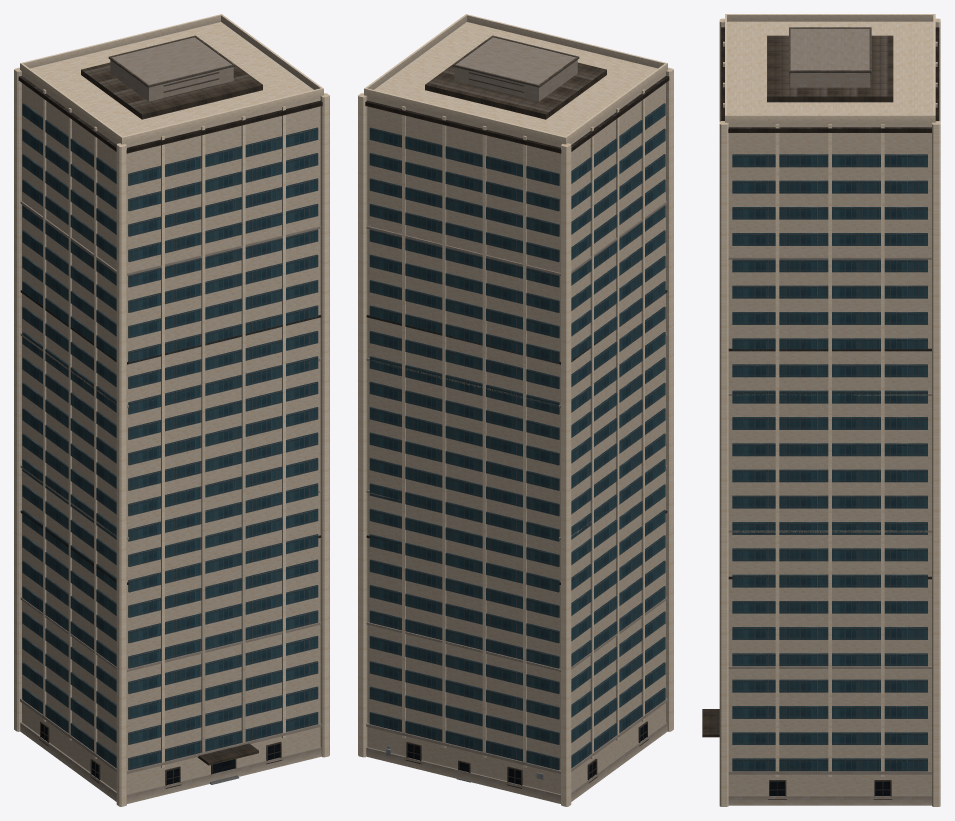
The model's file is campus-court-tower_lod0.gltf.
The picture shows the model from 3 angles, left to right: view 1: azimuth 30°, elevation 25°; view 2: azimuth 150°, elevation 25°; view 3: azimuth 270°, elevation 25°; orthographic projection. The views are drawn at different scales.
Visible parts, largest first — view 1: campus-court-tower_main, campus-court-tower_fen_07-glass-curtain-blue_0, campus-court-tower__v4_stone_detail, campus-court-tower__crown_step_1, campus-court-tower__cornice, campus-court-tower__parapet_front, campus-court-tower__parapet_back, campus-court-tower__v4_metal_detail, campus-court-tower__parapet_left, campus-court-tower__parapet_right, campus-court-tower_fen_07-glass-curtain-blue_2_t, campus-court-tower__string_course_2 (+2 smaller); view 2: campus-court-tower_main, campus-court-tower_fen_07-glass-curtain-blue_0, campus-court-tower__v4_stone_detail, campus-court-tower__crown_step_1, campus-court-tower__cornice, campus-court-tower__parapet_back, campus-court-tower__parapet_front, campus-court-tower__v4_metal_detail, campus-court-tower__parapet_left, campus-court-tower__parapet_right, campus-court-tower_fen_07-glass-curtain-blue_2_t, campus-court-tower_fen_12-bronze-metal_1; view 3: campus-court-tower_main, campus-court-tower_fen_07-glass-curtain-blue_0, campus-court-tower__v4_stone_detail, campus-court-tower__crown_step_1, campus-court-tower__cornice, campus-court-tower__parapet_left, campus-court-tower__parapet_right, campus-court-tower__v4_metal_detail, campus-court-tower__string_course_2, campus-court-tower__marquee, campus-court-tower_fen_07-glass-curtain-blue_2_t.
Boxes of the visible parts, x1,y1,x2,y2 form: campus-court-tower_main: (22,22,320,794); campus-court-tower_fen_07-glass-curtain-blue_0: (22,103,318,770); campus-court-tower__v4_stone_detail: (14,37,329,806); campus-court-tower__crown_step_1: (81,40,262,119); campus-court-tower__cornice: (18,76,322,153); campus-court-tower__parapet_front: (121,88,323,144); campus-court-tower__parapet_back: (20,14,222,70); campus-court-tower__v4_metal_detail: (108,35,235,98); campus-court-tower__parapet_left: (21,63,122,143); campus-court-tower__parapet_right: (221,15,322,89); campus-court-tower_fen_07-glass-curtain-blue_2_t: (41,724,280,784); campus-court-tower__string_course_2: (20,290,321,364); campus-court-tower_main: (367,22,665,794); campus-court-tower_fen_07-glass-curtain-blue_0: (369,103,665,770); campus-court-tower__v4_stone_detail: (358,22,673,806); campus-court-tower__crown_step_1: (425,40,606,119); campus-court-tower__cornice: (365,76,669,153); campus-court-tower__parapet_back: (364,88,566,144); campus-court-tower__parapet_front: (465,14,667,70); campus-court-tower__v4_metal_detail: (452,35,579,98); campus-court-tower__parapet_left: (565,63,666,143); campus-court-tower__parapet_right: (365,15,466,89); campus-court-tower_fen_07-glass-curtain-blue_2_t: (407,724,646,784); campus-court-tower_fen_12-bronze-metal_1: (405,721,648,788); campus-court-tower_main: (727,21,933,795); campus-court-tower_fen_07-glass-curtain-blue_0: (732,154,927,771); campus-court-tower__v4_stone_detail: (719,18,940,806); campus-court-tower__crown_step_1: (767,35,893,102); campus-court-tower__cornice: (721,27,939,132); campus-court-tower__parapet_left: (727,14,933,21); campus-court-tower__parapet_right: (727,115,933,122); campus-court-tower__v4_metal_detail: (789,27,871,79); campus-court-tower__string_course_2: (728,348,931,351); campus-court-tower__marquee: (702,709,719,737); campus-court-tower_fen_07-glass-curtain-blue_2_t: (770,781,890,795).
Bounding box in the file's own units: 33.36 × 103 × 31.68.
